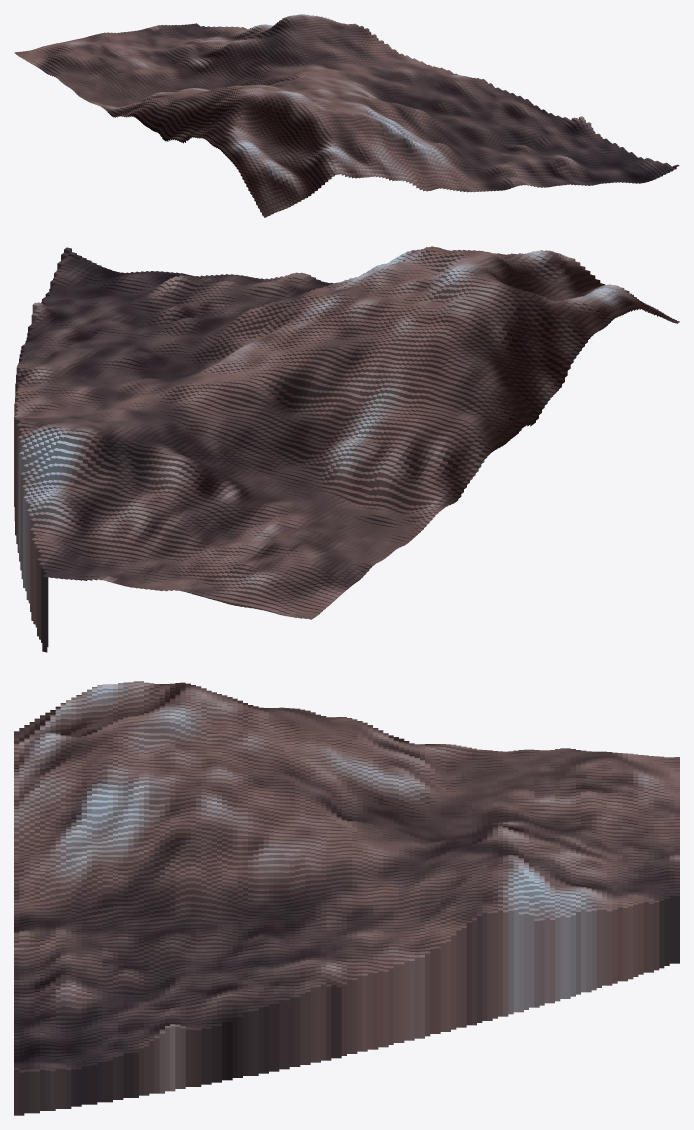
Rendered from chunk-13.glb.
The picture shows the model from 3 angles, top to bottom: view 1: azimuth 30°, elevation 25°; view 2: azimuth 150°, elevation 25°; view 3: azimuth 270°, elevation 25°; orthographic projection. The views are drawn at different scales.
Visible parts, largest first — view 1: Mesh_0.029; view 2: Mesh_0.029; view 3: Mesh_0.029.
Part boxes in pixels (box(x1,y1,x2,y2)): Mesh_0.029: box(14, 14, 679, 217); Mesh_0.029: box(14, 246, 679, 652); Mesh_0.029: box(14, 681, 679, 1115).
Bounding box in the file's own units: 30750 × 10194 × 32000.
